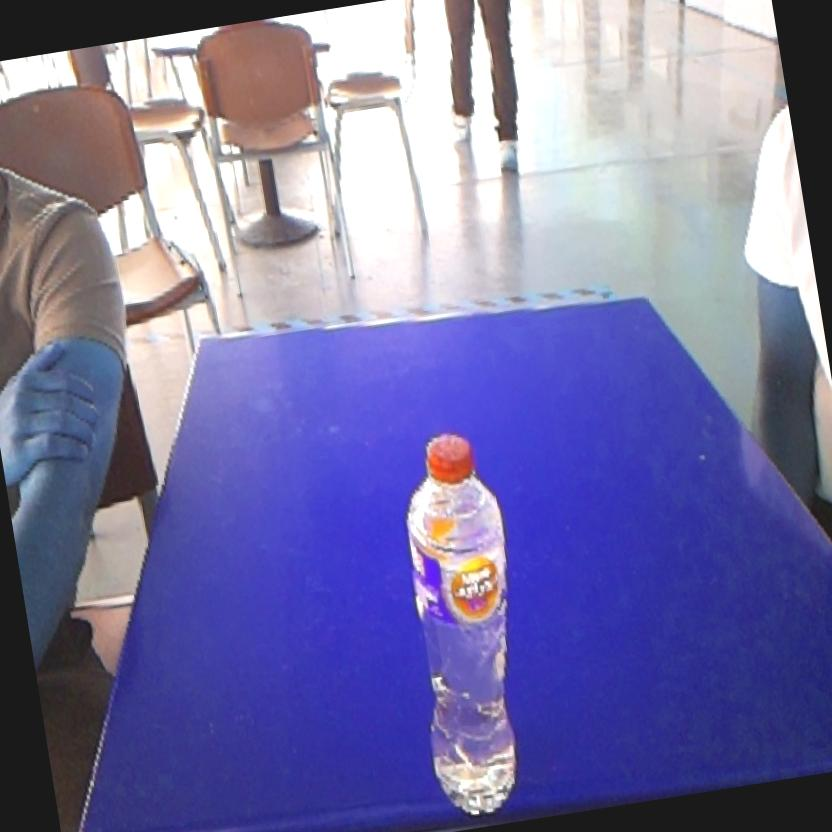good: (370, 412, 552, 827)
